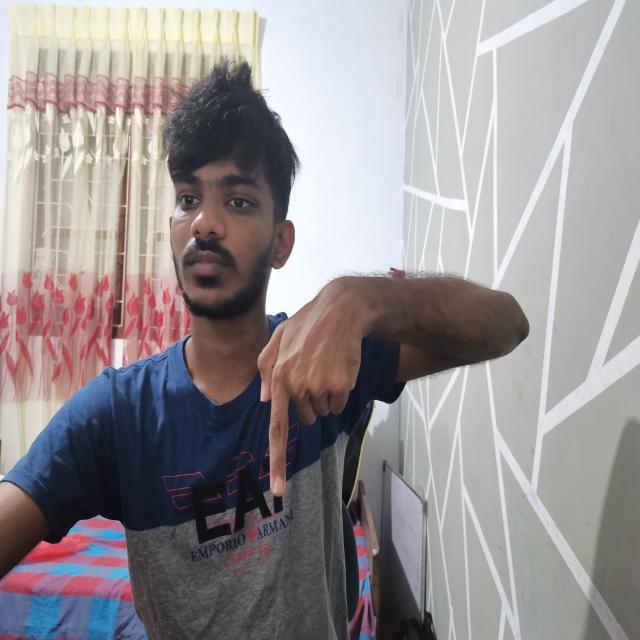Yes: (235, 260, 417, 526)
